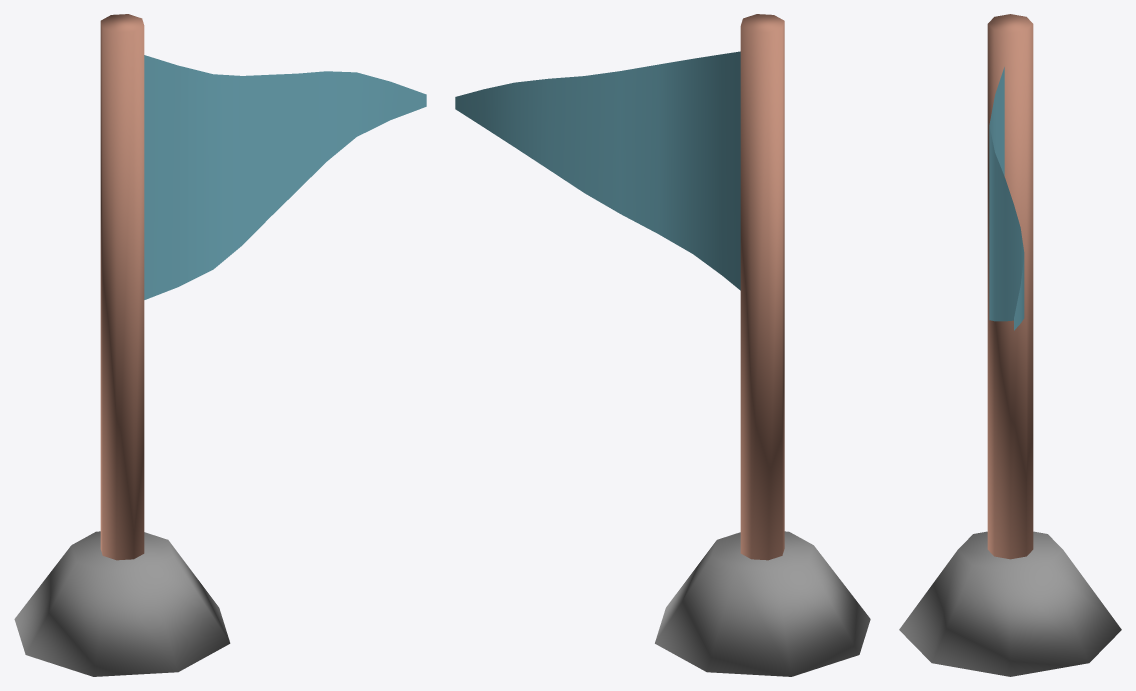
The model's file is a flag.fbx.
3 renders of one model, left to right at view 1: azimuth 30°, elevation 25°; view 2: azimuth 150°, elevation 25°; view 3: azimuth 270°, elevation 25°, orthographic.
Visible parts, largest first — view 1: Plane; view 2: Plane; view 3: Plane.
Boxes of the visible parts, bbox=[...] form: Plane: bbox=[14, 14, 426, 676]; Plane: bbox=[455, 14, 870, 676]; Plane: bbox=[899, 14, 1121, 676].
Size of the model in its own units: 115 by 166 by 55.22.
